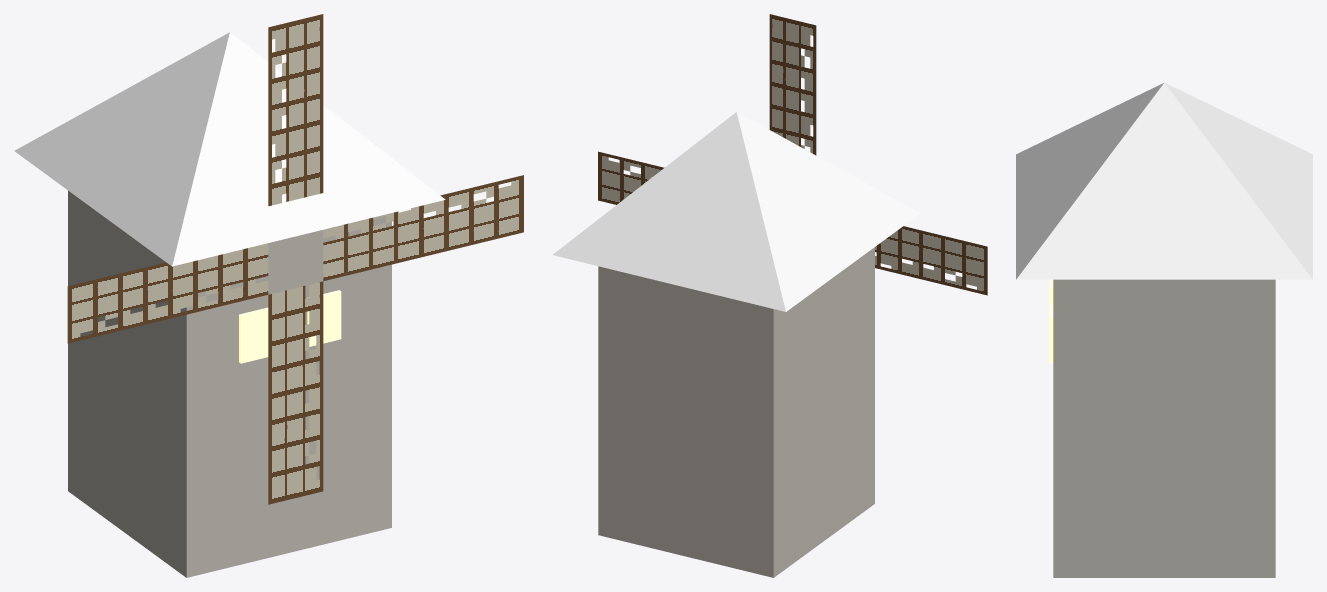
Rendered from windmill.gltf.
The picture shows the model from 3 angles, left to right: view 1: azimuth 30°, elevation 25°; view 2: azimuth 150°, elevation 25°; view 3: azimuth 270°, elevation 25°; orthographic projection. The views are drawn at different scales.
Visible parts, largest first — view 1: Windmill, Sails; view 2: Windmill, Sails; view 3: Windmill.
Part boxes in pixels (<box>): Windmill: <box>14,32,445,577</box>; Sails: <box>67,14,523,504</box>; Windmill: <box>553,112,920,577</box>; Sails: <box>598,14,987,295</box>; Windmill: <box>1016,82,1312,577</box>.
Bounding box in the file's own units: 2 × 2.25 × 1.2.
4 materials, 1 textured.
